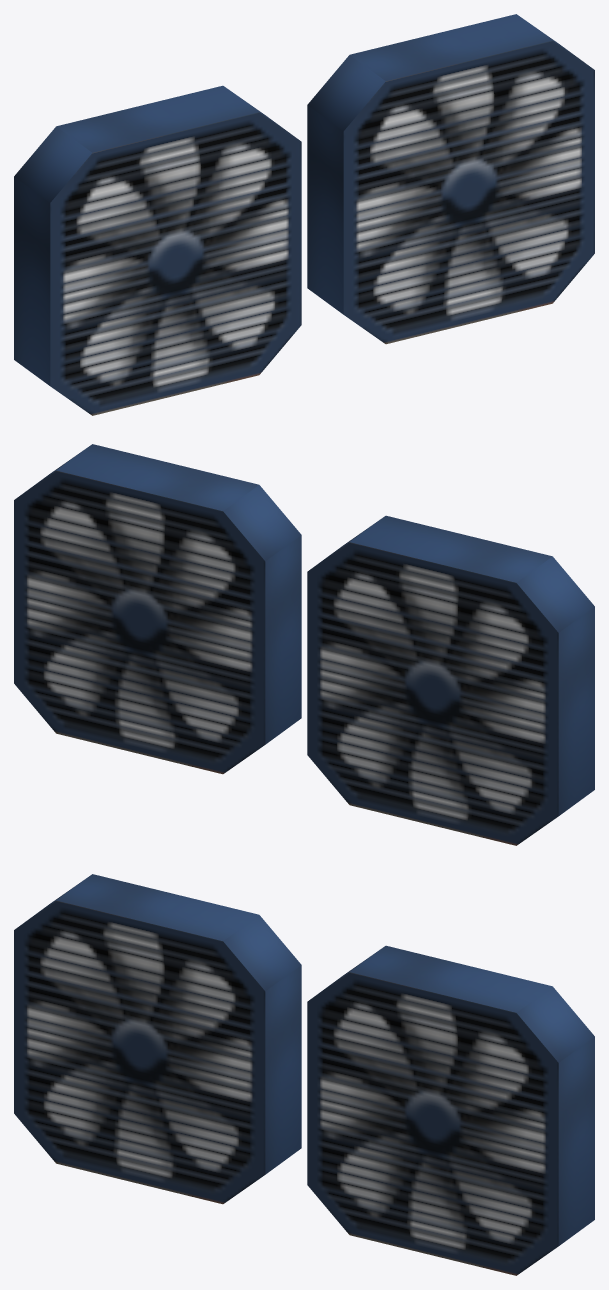
File: Bundle_Fans.fbx
3 renders of one model, top to bottom at view 1: azimuth 30°, elevation 25°; view 2: azimuth 150°, elevation 25°; view 3: azimuth 330°, elevation 25°, orthographic.
Visible parts, largest first — view 1: Bundle_Fans_1; view 2: Bundle_Fans_1; view 3: Bundle_Fans_1.
Boxes of the visible parts, x1=… form: Bundle_Fans_1: x1=14, y1=14, x2=594, y2=415; Bundle_Fans_1: x1=14, y1=444, x2=594, y2=845; Bundle_Fans_1: x1=14, y1=874, x2=594, y2=1275.
Bounding box in the file's own units: 180 × 83.06 × 20.76.
